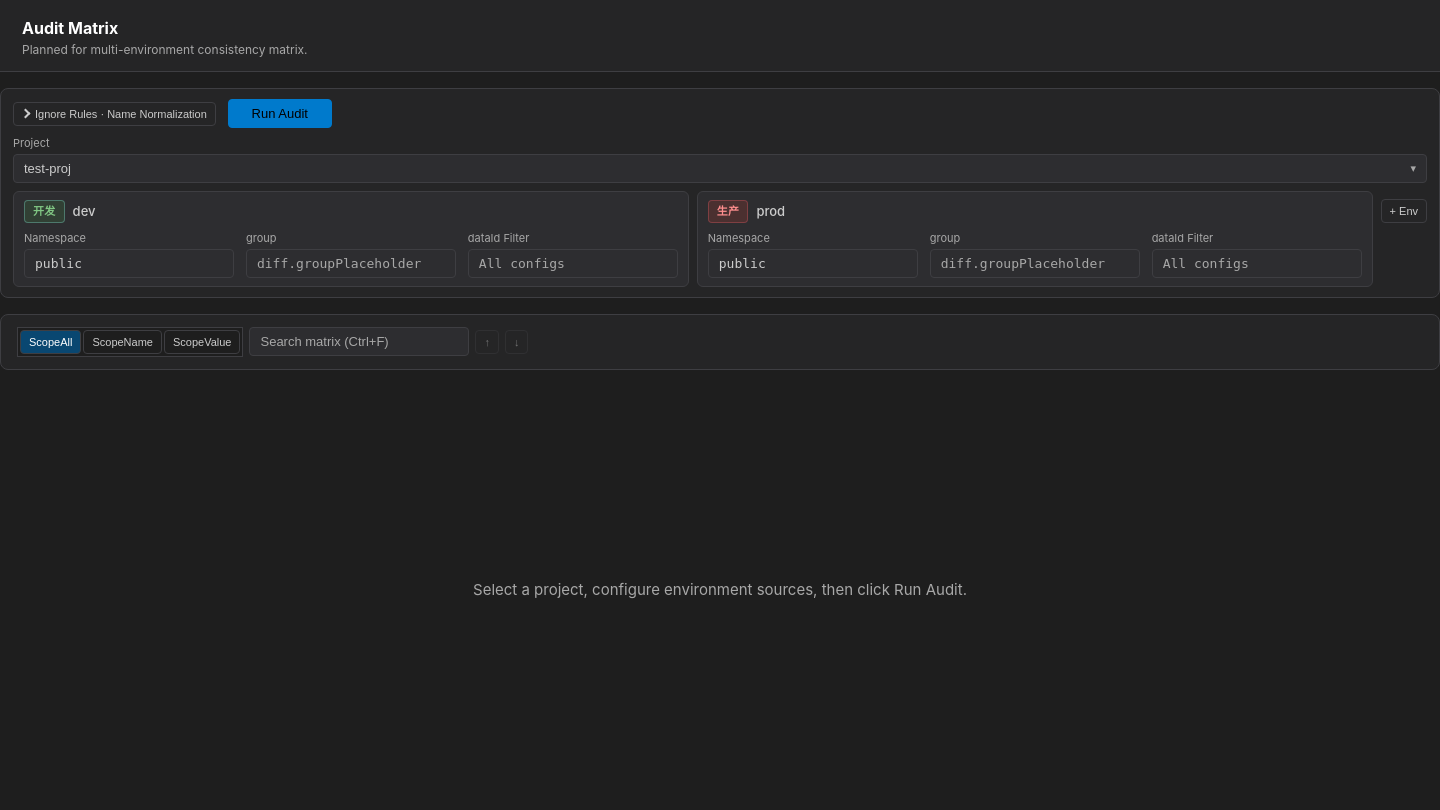
Test case: AuditView › 渲染忽略规则设置区域
点击设置展开 - 使用部分文本匹配
Click the button "Ignore Rules · Name Normalization": (114, 114) x1=13 y1=102 x2=216 y2=126
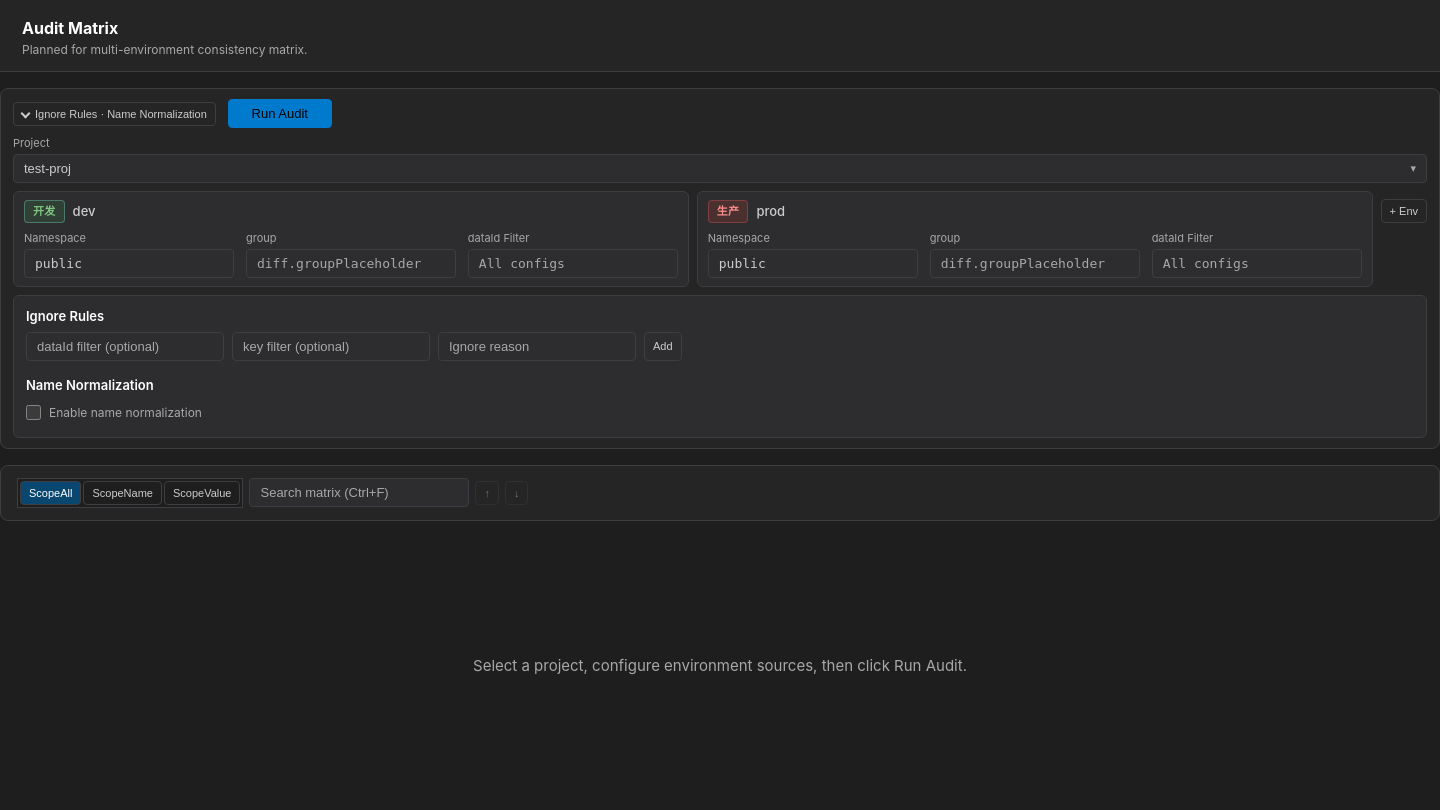
Now the heading "Ignore Rules" is shown, box x1=26 y1=308 x2=104 y2=324
Now the heading "Name Normalization" is shown, box x1=26 y1=376 x2=154 y2=392
